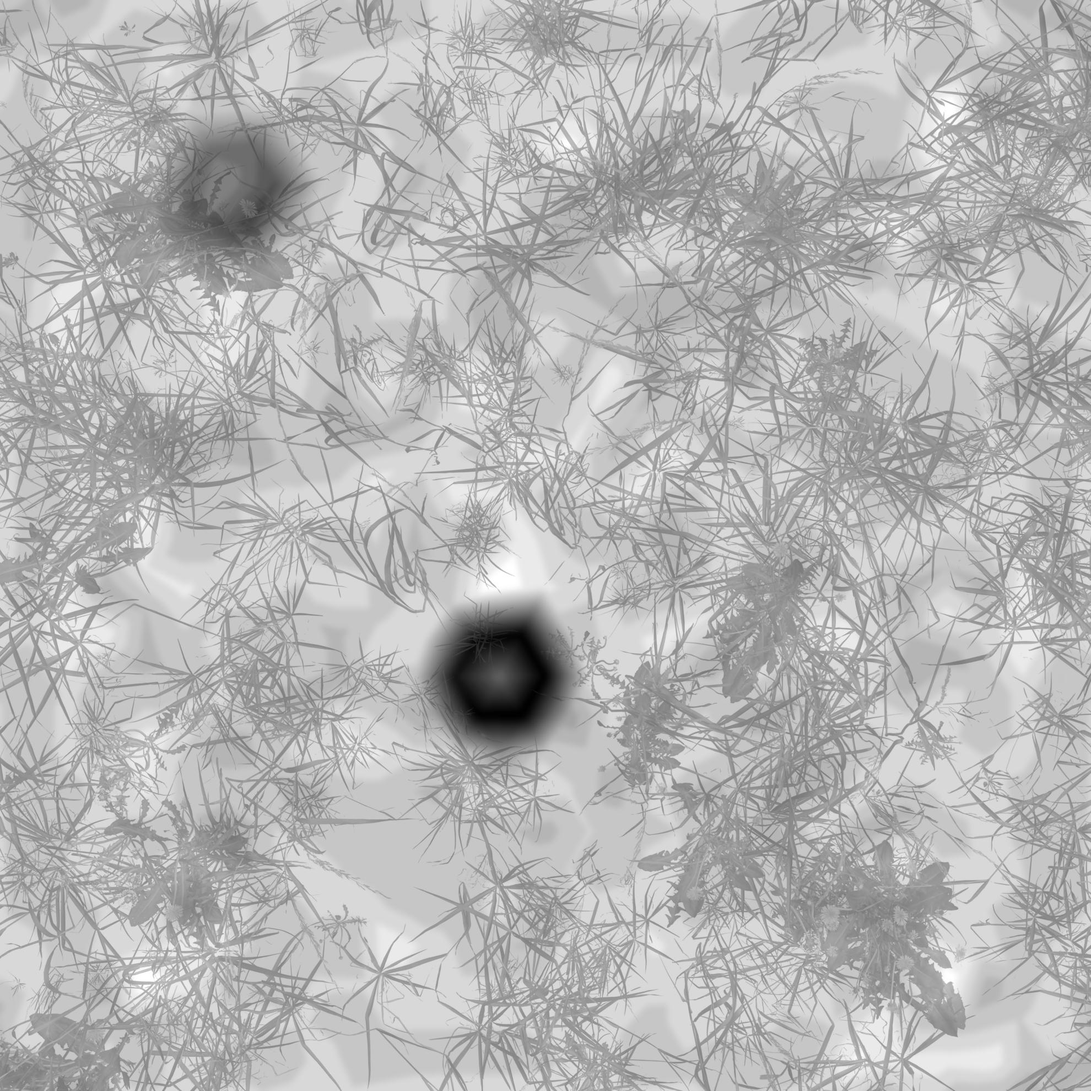landmine: (433, 600, 580, 758), (166, 120, 311, 260)
